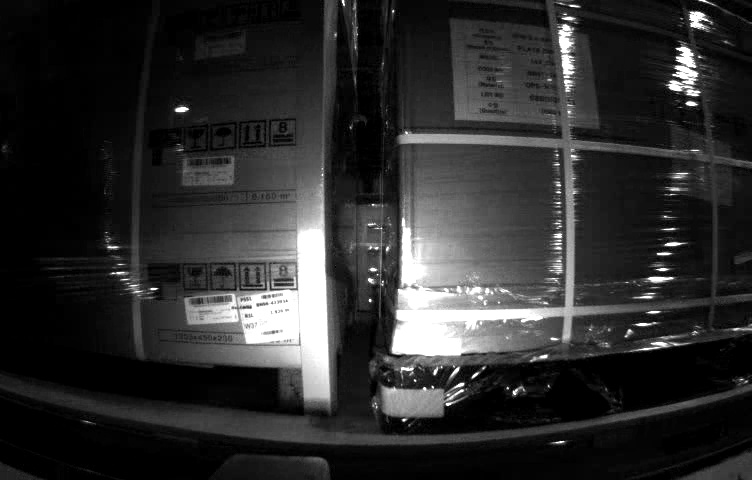True Barcode: (234, 288, 298, 343)
